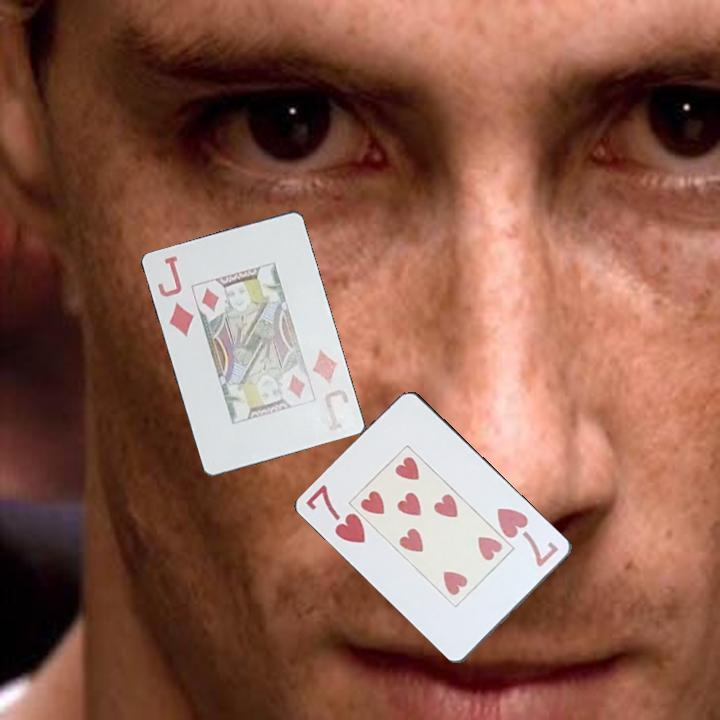7h: (494, 504, 562, 570), (303, 481, 369, 546)
Jd: (309, 346, 353, 434), (154, 252, 197, 340)
